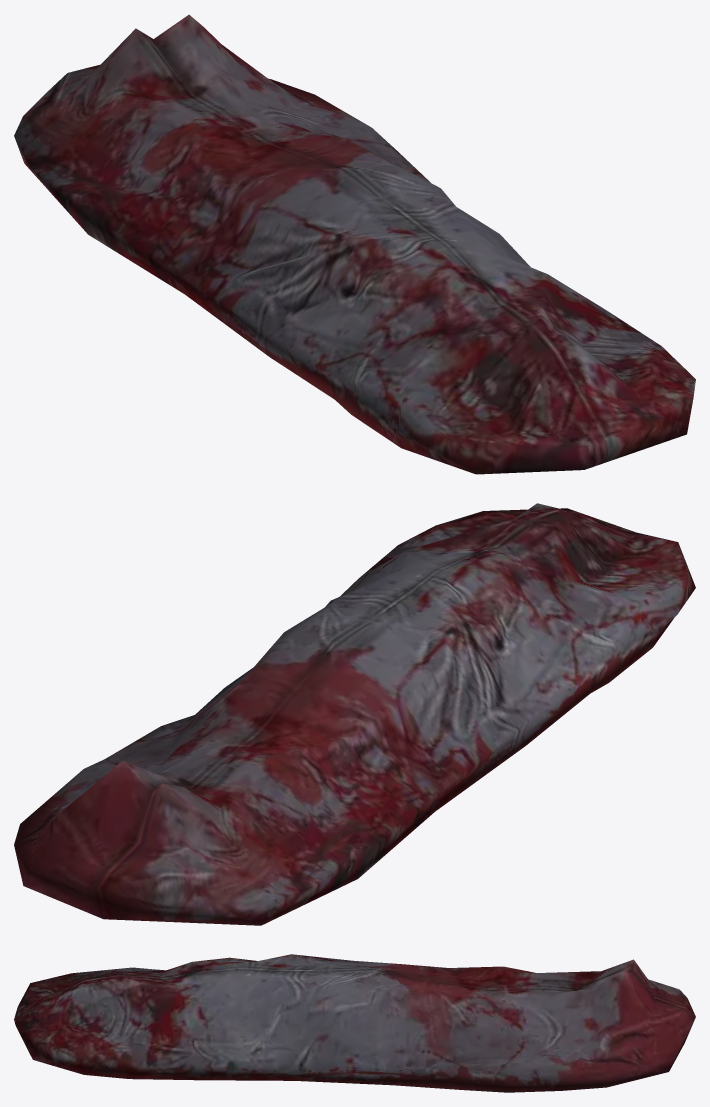
File: wrapped_corpse.glb
The picture shows the model from 3 angles, top to bottom: view 1: azimuth 30°, elevation 25°; view 2: azimuth 150°, elevation 25°; view 3: azimuth 270°, elevation 25°; orthographic projection. The views are drawn at different scales.
Visible parts, largest first — view 1: deadman_sm_deadman_mat_0; view 2: deadman_sm_deadman_mat_0; view 3: deadman_sm_deadman_mat_0.
Boxes of the visible parts, bbox=[...] form: deadman_sm_deadman_mat_0: bbox=[14, 14, 695, 474]; deadman_sm_deadman_mat_0: bbox=[14, 503, 695, 925]; deadman_sm_deadman_mat_0: bbox=[14, 954, 695, 1092].
Bounding box in the file's own units: 0.8124 × 0.3436 × 2.37.
1 material, 1 textured.
